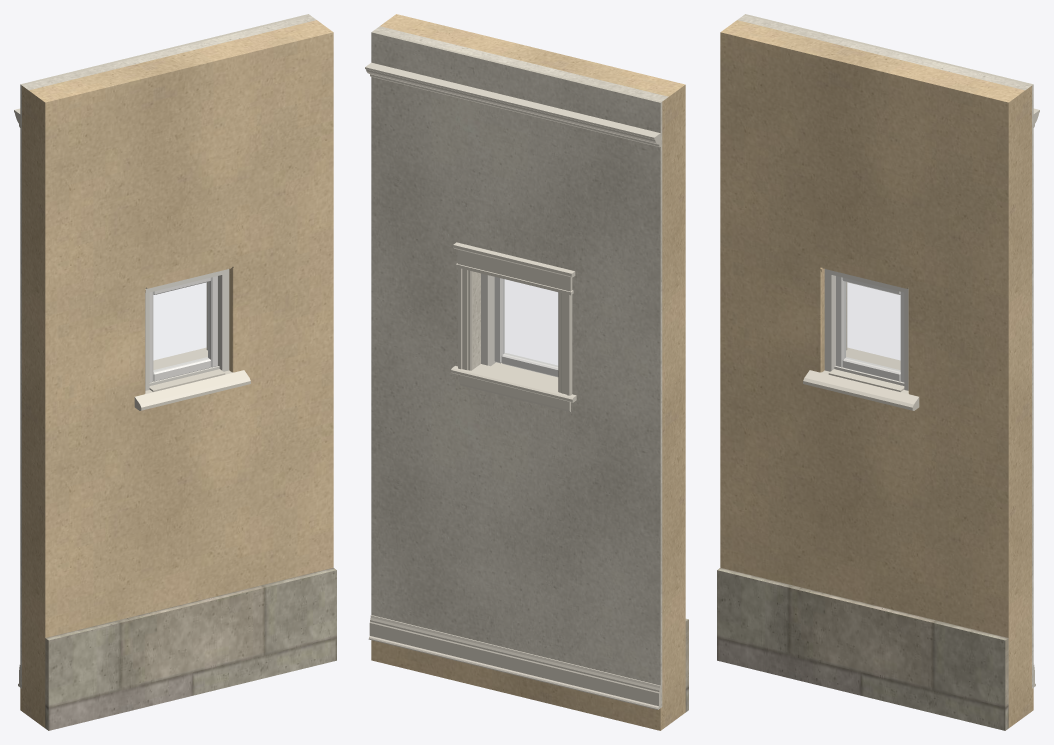
Rendered from wall_render_small_window_ground.glb.
The picture shows the model from 3 angles, left to right: view 1: azimuth 30°, elevation 25°; view 2: azimuth 150°, elevation 25°; view 3: azimuth 330°, elevation 25°; orthographic projection.
Visible parts, largest first — view 1: wall_render_small_window_ground_render, wall_render_small_window_ground_stone, folha_glass, wall_render_small_window_ground_plaster, wall_render_small_window_ground_trim, wall_render_small_window_ground_frame, folha_sash, molduras; view 2: wall_render_small_window_ground_plaster, wall_render_small_window_ground_render, molduras, folha_glass, folha_sash, wall_render_small_window_ground_frame; view 3: wall_render_small_window_ground_render, wall_render_small_window_ground_stone, folha_glass, wall_render_small_window_ground_plaster, wall_render_small_window_ground_trim, wall_render_small_window_ground_frame, folha_sash, molduras.
Part boxes in pixels (x1,y1,x2,y2): wall_render_small_window_ground_render: (20, 20, 333, 727); wall_render_small_window_ground_stone: (45, 567, 336, 730); folha_glass: (154, 282, 208, 370); wall_render_small_window_ground_plaster: (20, 14, 316, 688); wall_render_small_window_ground_trim: (134, 367, 250, 410); wall_render_small_window_ground_frame: (145, 269, 229, 390); folha_sash: (149, 276, 217, 382); molduras: (14, 108, 207, 687); wall_render_small_window_ground_plaster: (371, 26, 668, 707); wall_render_small_window_ground_render: (371, 14, 685, 730); molduras: (365, 62, 660, 709); folha_glass: (503, 279, 557, 366); folha_sash: (494, 277, 558, 377); wall_render_small_window_ground_frame: (481, 273, 495, 366); wall_render_small_window_ground_render: (720, 20, 1033, 727); wall_render_small_window_ground_stone: (717, 567, 1008, 730); folha_glass: (845, 282, 899, 370); wall_render_small_window_ground_plaster: (737, 14, 1033, 688); wall_render_small_window_ground_trim: (803, 367, 919, 410); wall_render_small_window_ground_frame: (824, 269, 908, 390); folha_sash: (836, 276, 904, 382); molduras: (846, 108, 1039, 687).
Size of the model in its own units: 2 by 4.15 by 0.455.
Materials: 7 (3 with a texture image).
